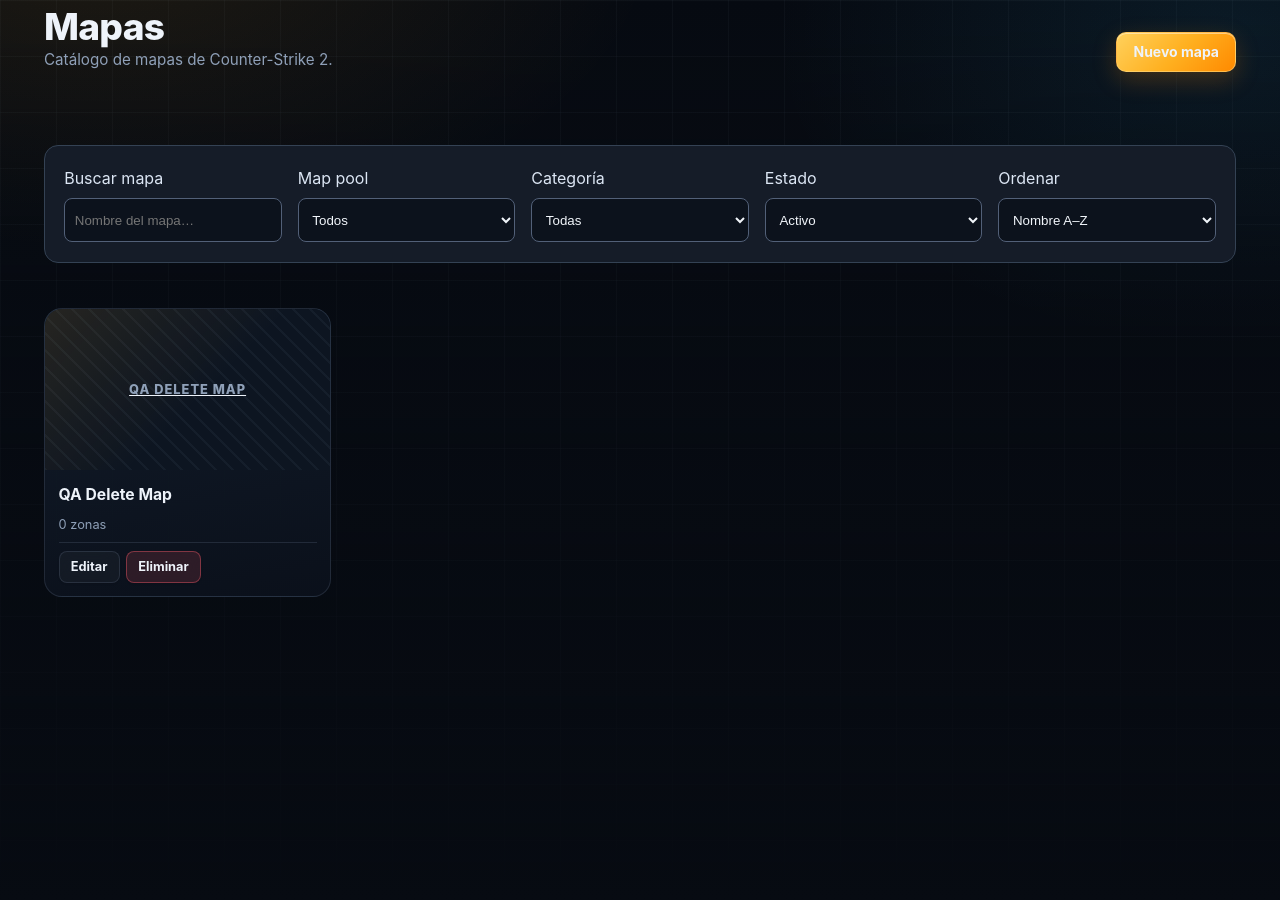
Test: Maps page › informa cuando el mapa se archiva por tener información asociada
What coordinates should you click on to do the following:
click the button "Eliminar"
I would click on:
 (164, 567)
Its box is [126,551,201,583].
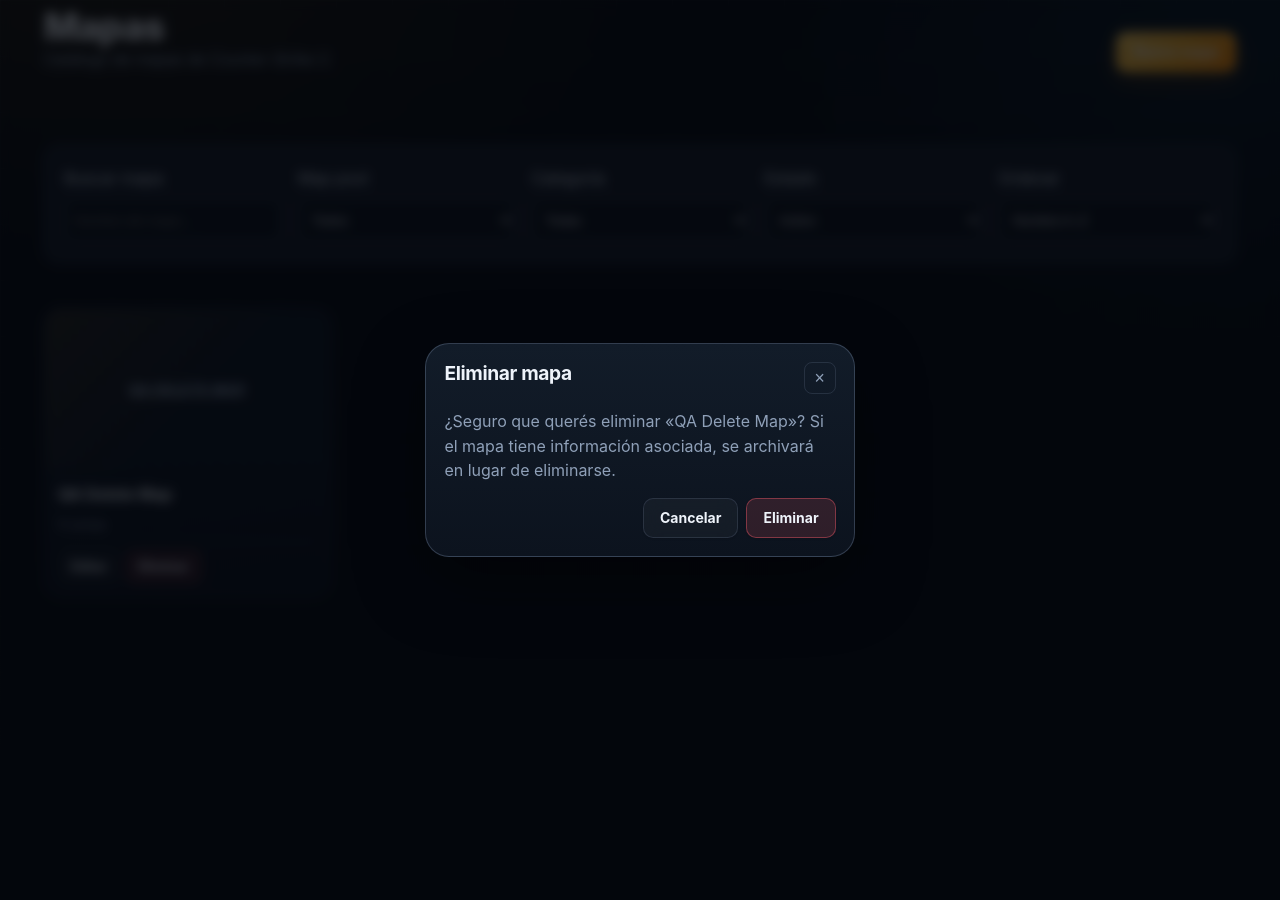
What coordinates should you click on to do the following:
click the button "Eliminar"
I would click on:
 (791, 518)
Its box is [746,498,836,538].
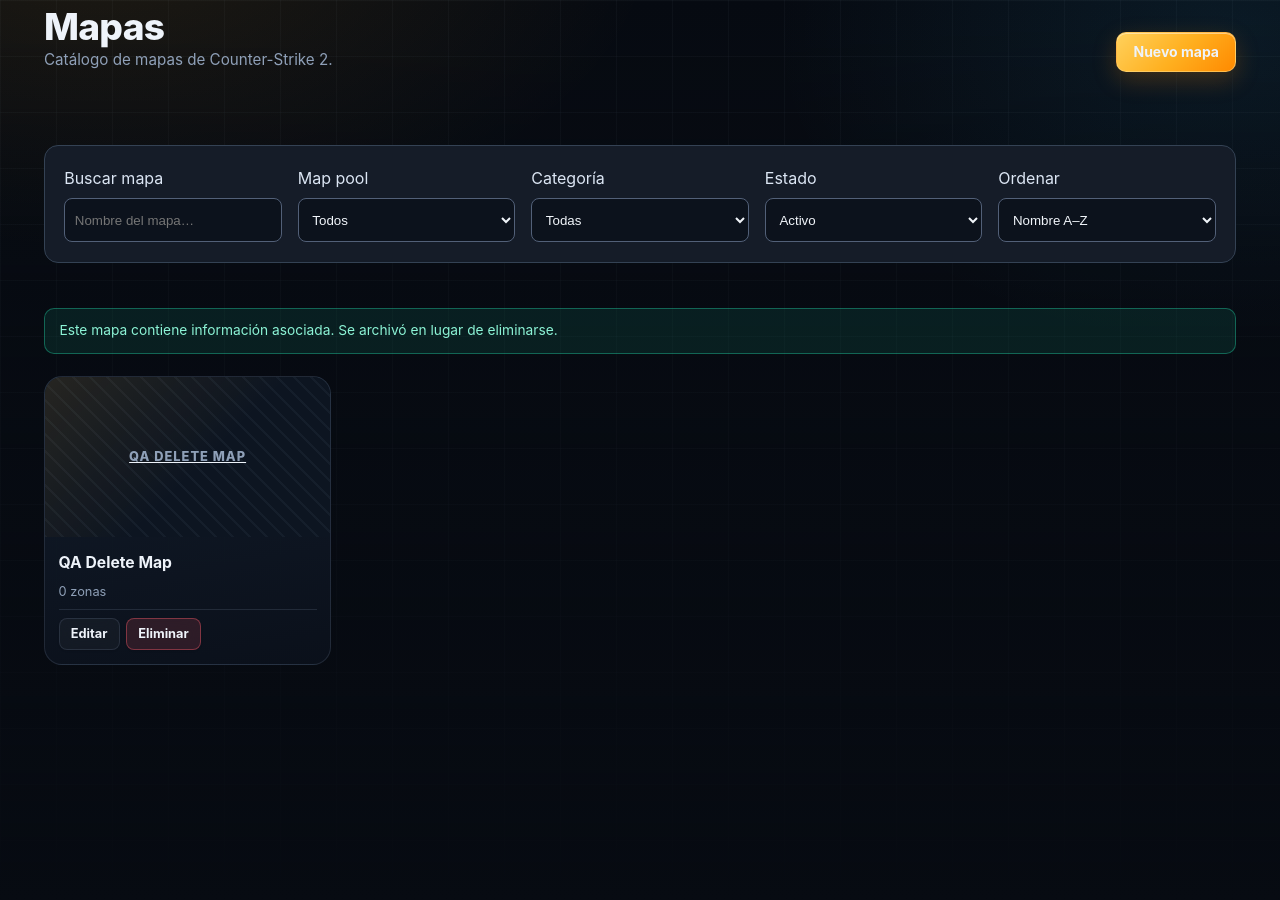
Expected: the text "Este mapa contiene información asociada. Se archivó en lugar de eliminarse." is shown, [44,308,1236,354]
